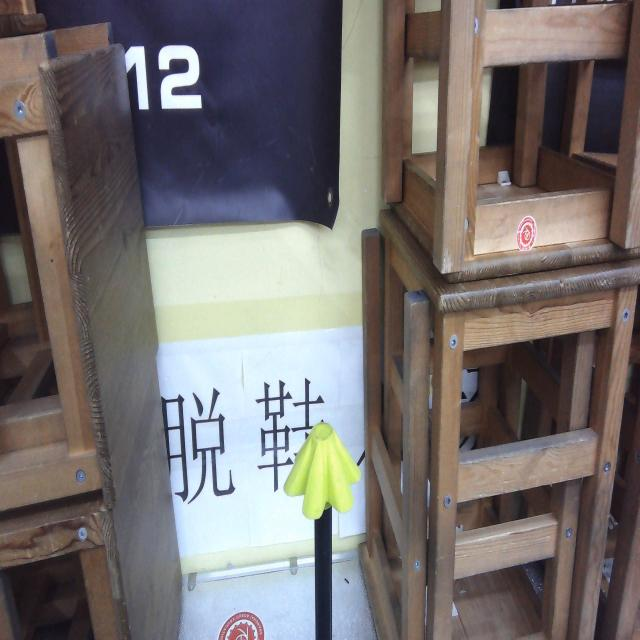Yellow-Stake-Head: (283, 423, 362, 520)
